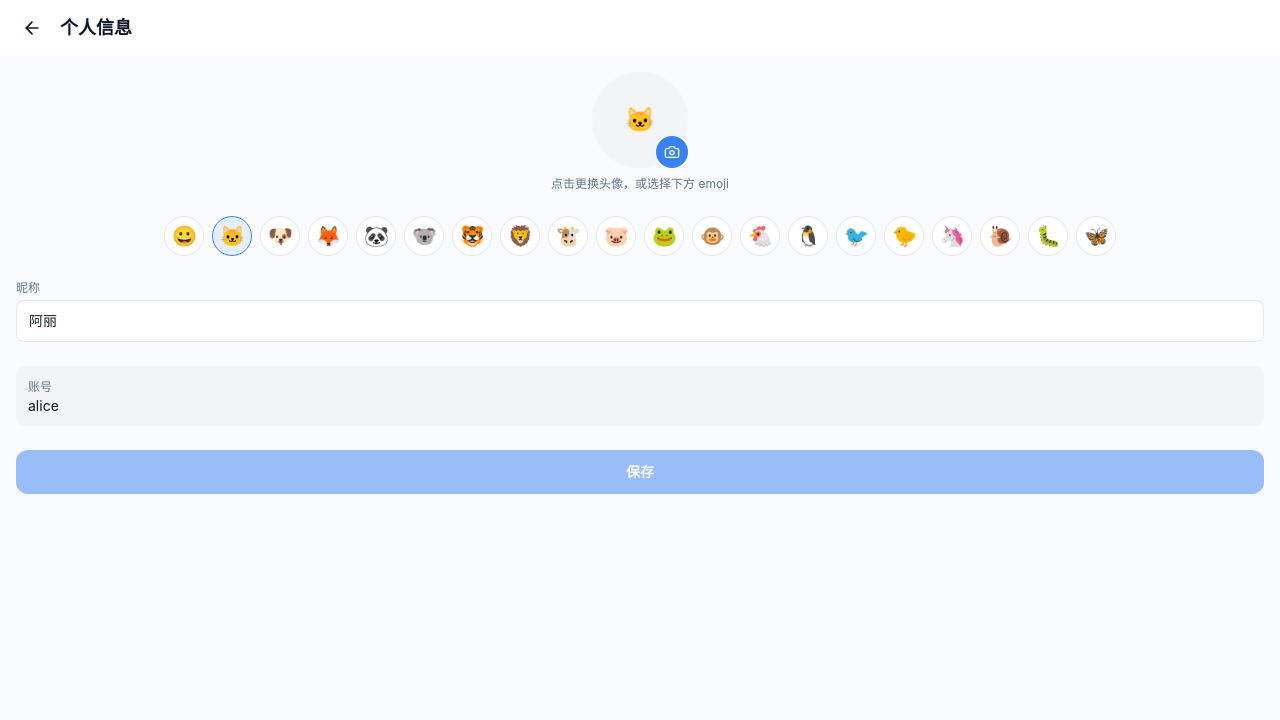
ProfilePage 资料编辑 › 保存时拿不到响应（断网）→ 显示通用文案，不弹回上一页
Step 1. Replace the text in the field with test id "me-nickname" with "阿丽丽" → (640,321), box top-left (16, 300), bottom-right (1264, 342)
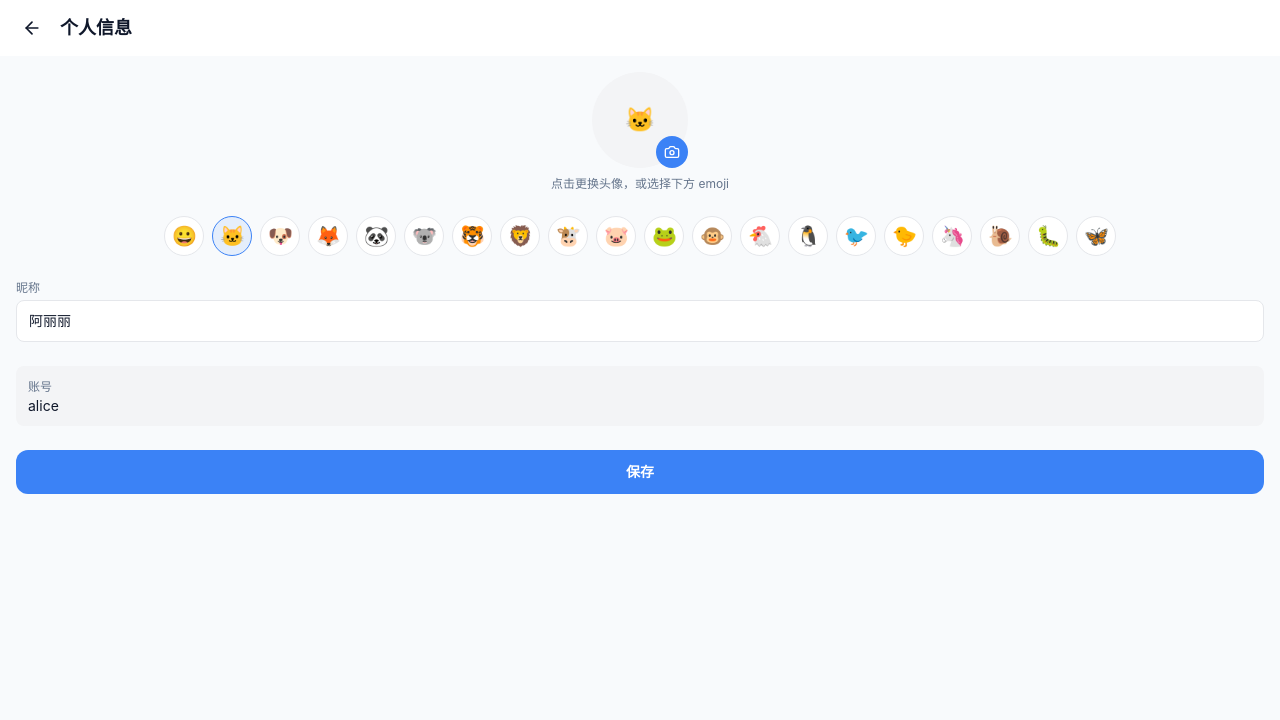
Step 2. Click the button with test id "me-save" → (640,472), box top-left (16, 450), bottom-right (1264, 494)
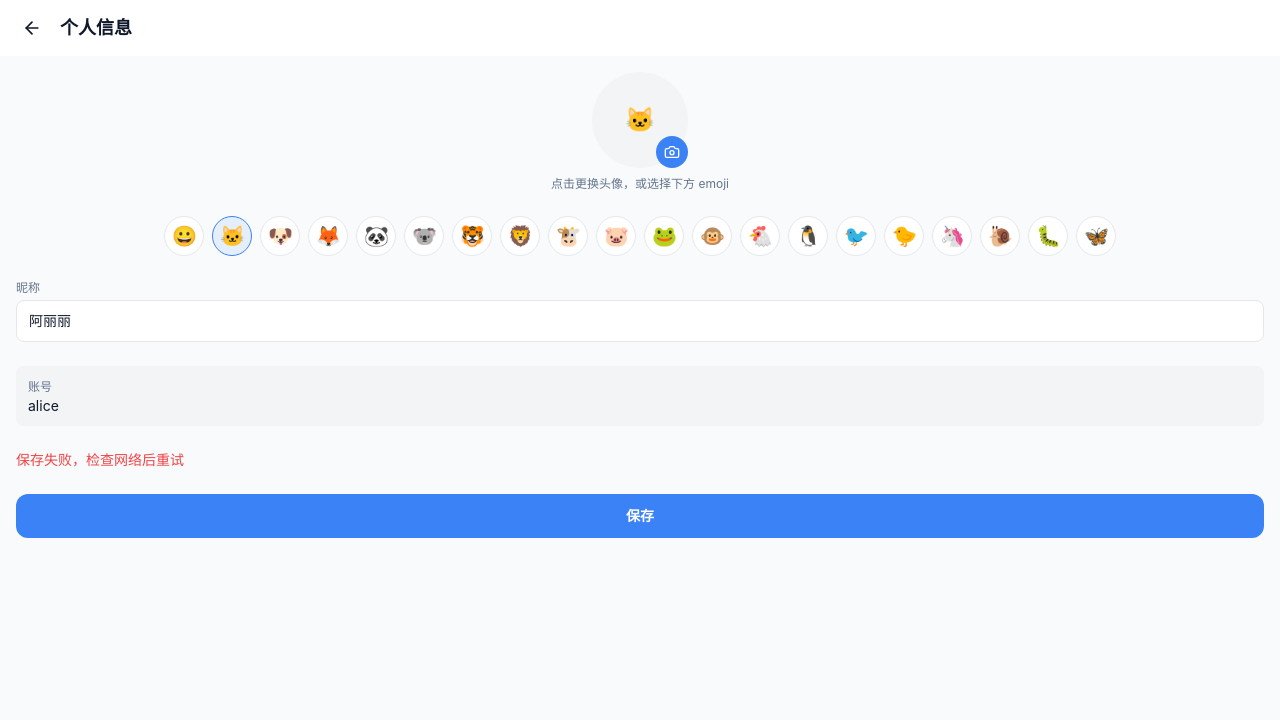
Now the text with test id "me-error" reads "保存失败，检查网络后重试", box top-left (16, 451), bottom-right (184, 468)
